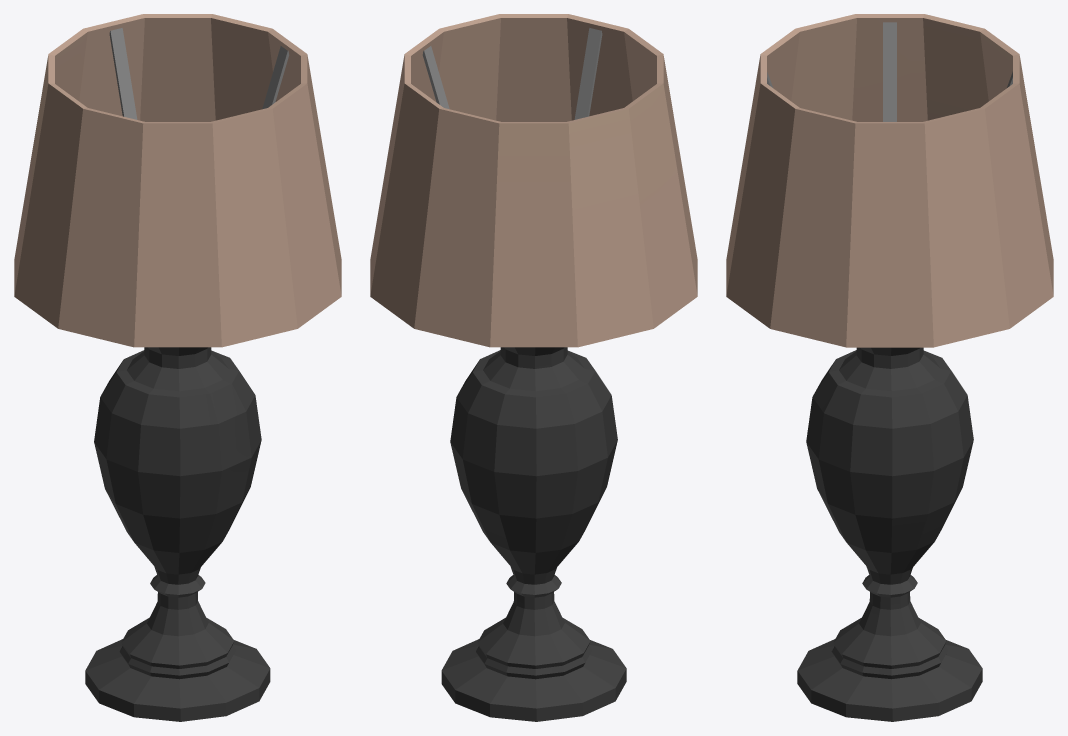
The model's file is table_lamp_shade.glb.
The picture shows the model from 3 angles, left to right: view 1: azimuth 30°, elevation 25°; view 2: azimuth 150°, elevation 25°; view 3: azimuth 270°, elevation 25°; orthographic projection.
Visible parts, largest first — view 1: Lamp_with_shade; view 2: Lamp_with_shade; view 3: Lamp_with_shade.
Boxes of the visible parts, bbox=[...] form: Lamp_with_shade: bbox=[14, 14, 341, 721]; Lamp_with_shade: bbox=[370, 14, 697, 721]; Lamp_with_shade: bbox=[726, 14, 1053, 721].
Bounding box in the file's own units: 0.2898 × 0.6 × 0.2898.
Materials: 1 (1 with a texture image).
